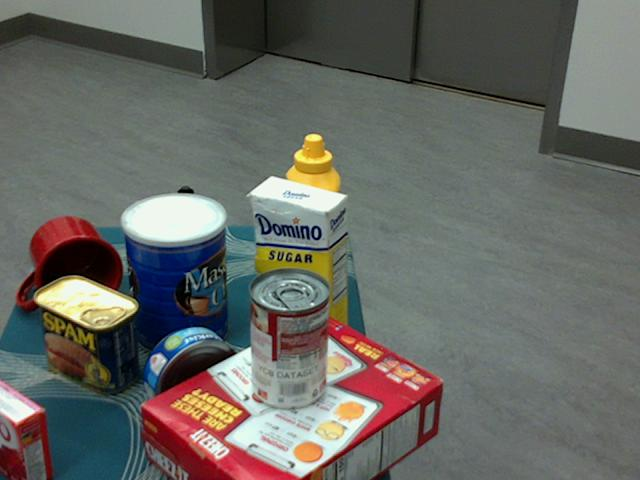cracker_box: (141, 312, 444, 479)
gelatin_box: (0, 378, 52, 479)
large_marker: (177, 185, 197, 282)
master_chef_can: (120, 193, 227, 360)
mug: (19, 216, 122, 314)
mustard_bottle: (283, 133, 338, 311)
potted_meat_can: (33, 274, 138, 393)
sugar_box: (250, 175, 347, 360)
tomato_soup_can: (247, 269, 329, 411)
tuna_fish_can: (143, 326, 240, 423)
